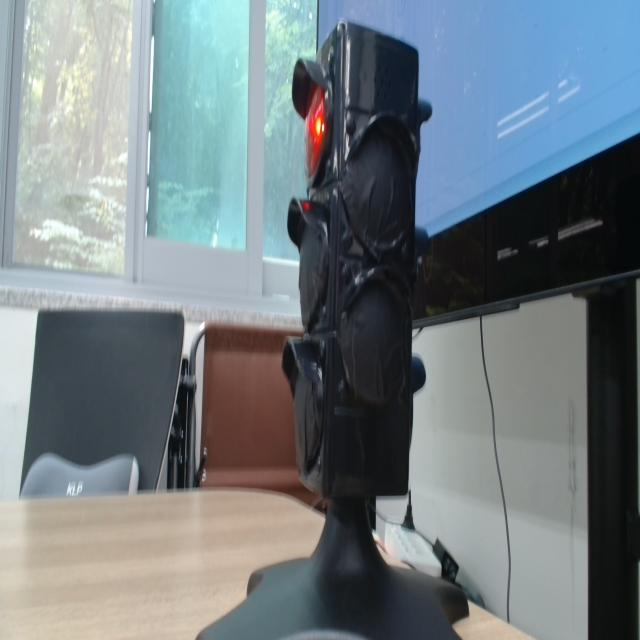red_light: (306, 86, 325, 177)
